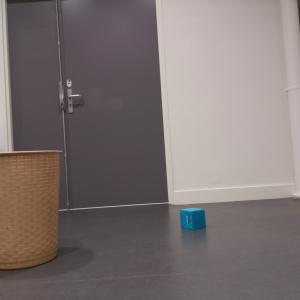medium: (1, 149, 62, 270)
small: (181, 207, 206, 229)
